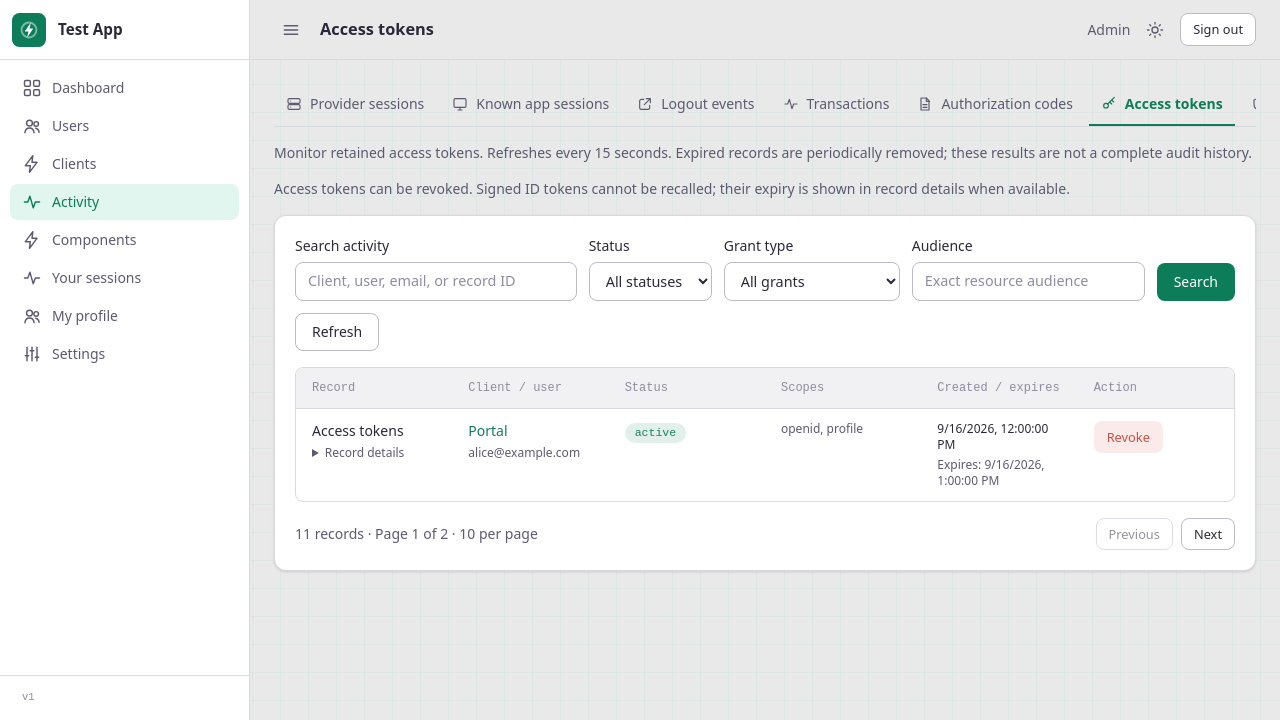
admin activity monitoring › filters only on submission and paginates with submitted values
Expected: the link "Portal" is shown, 468,421 -> 508,440
Type "Alice" into the search field labelled "Search activity" at [436, 282], box 295,262 -> 577,301
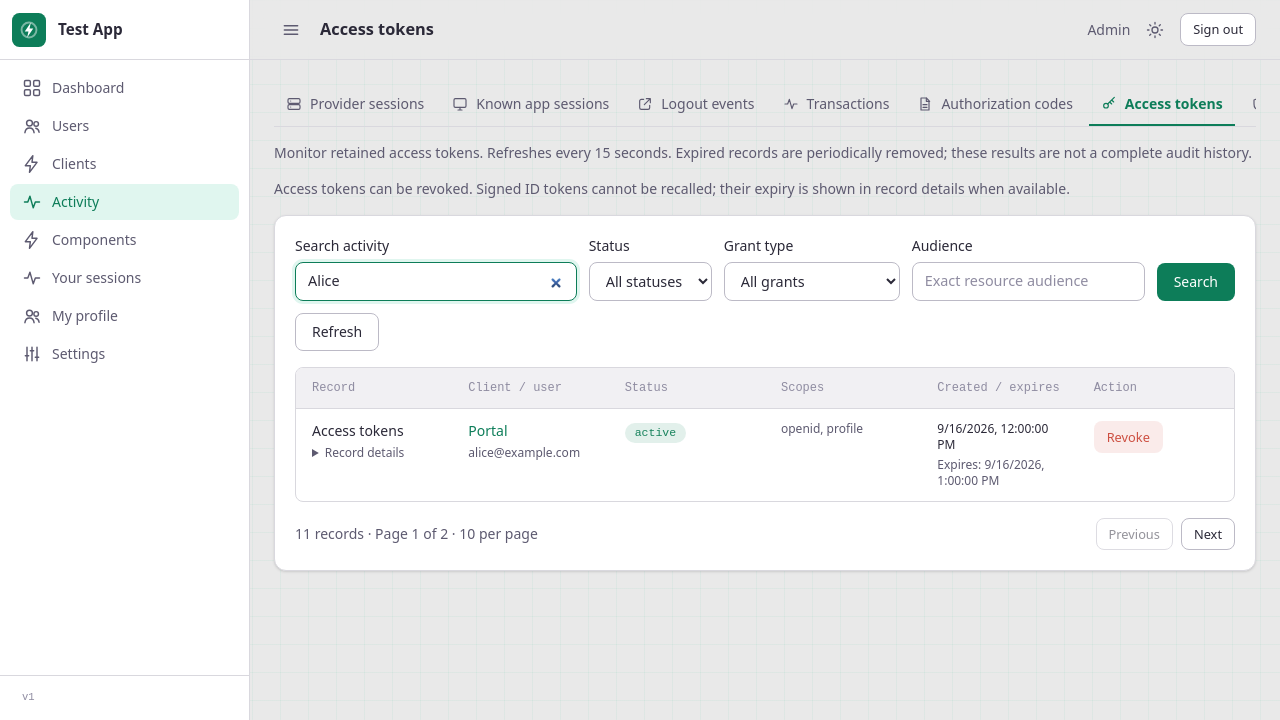
Select "active" in the dropdown labelled "Status" at [650, 282], box 589,262 -> 712,301
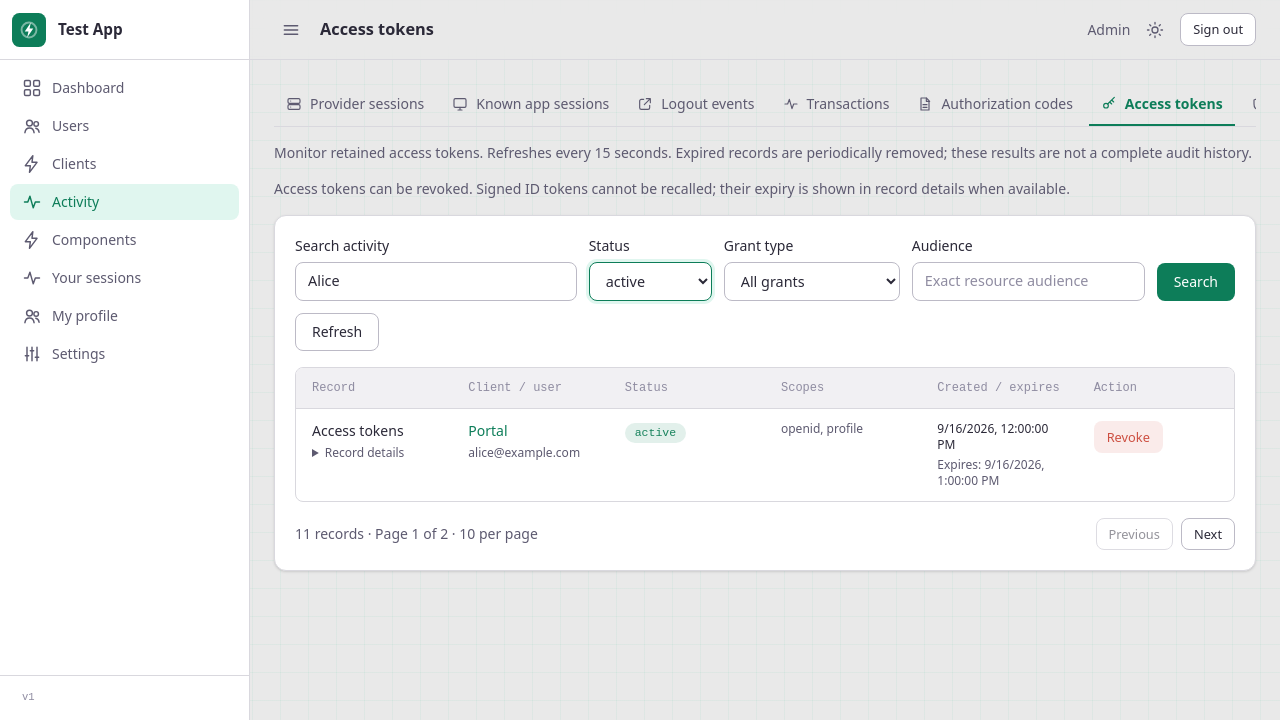
Click the button "Search" at [1196, 282], box 1157,263 -> 1235,301
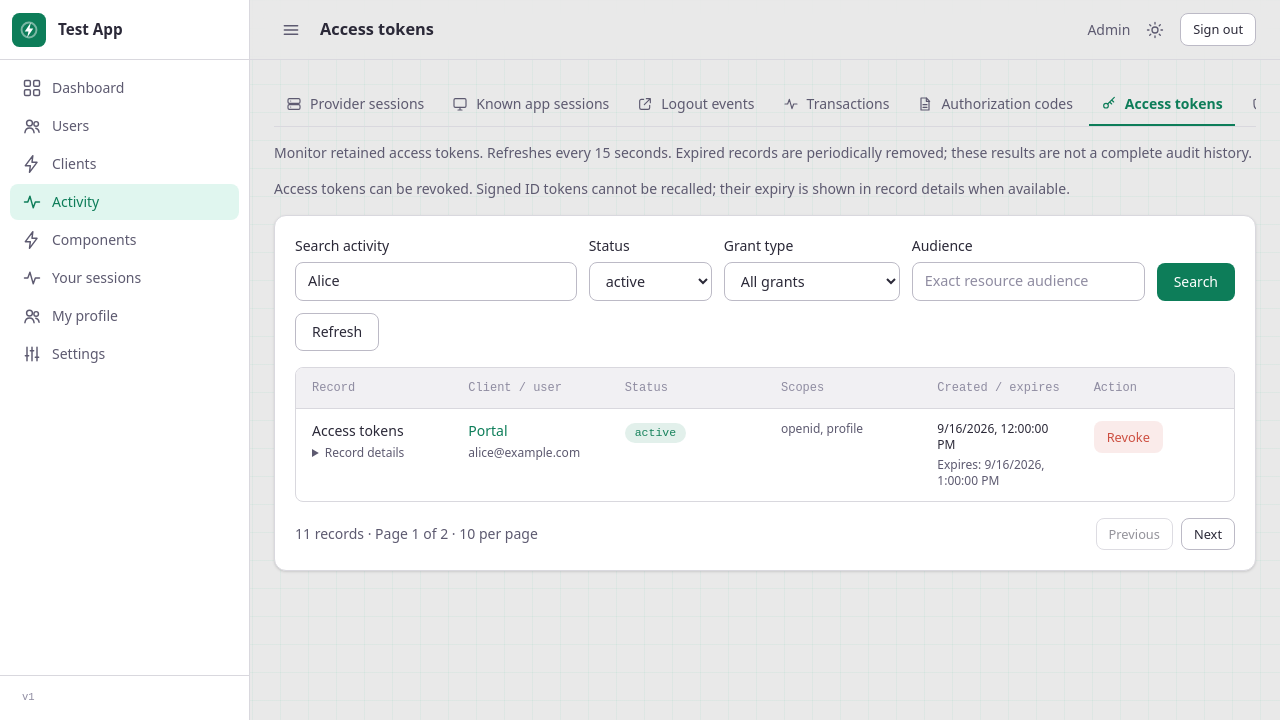
Type " unsubmitted" into the search field labelled "Search activity" at [436, 282], box 295,262 -> 577,301
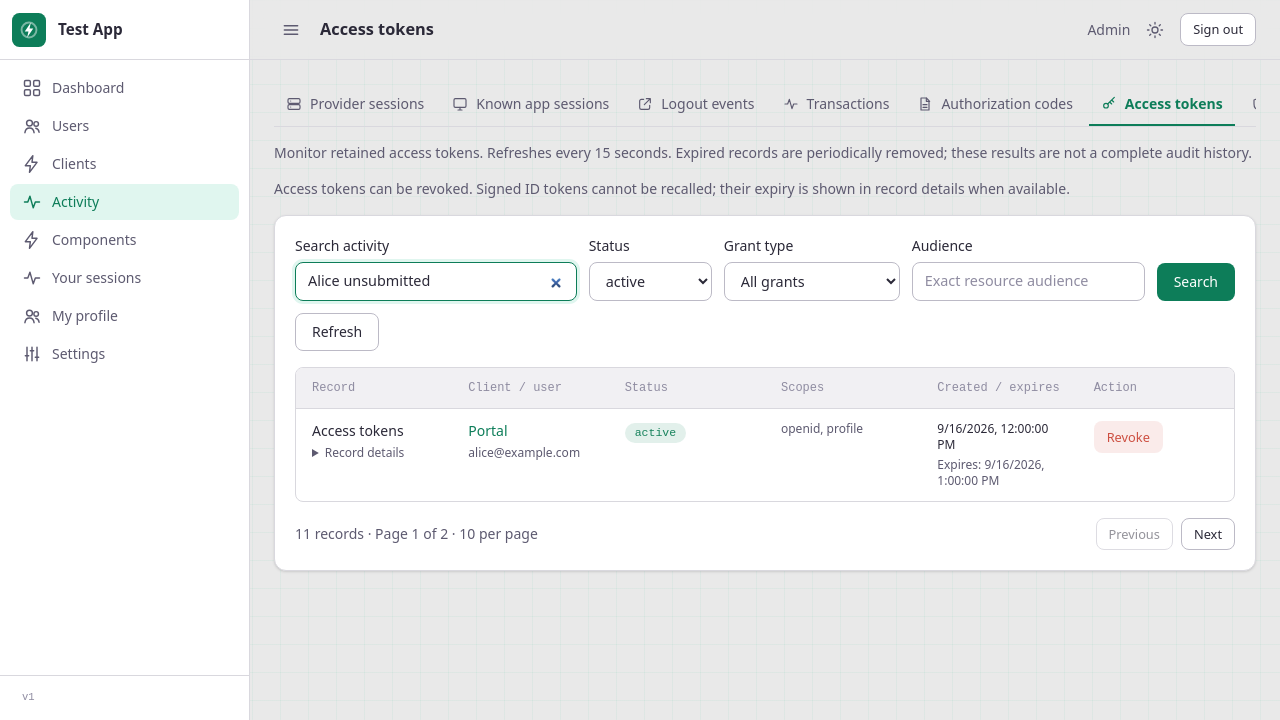
Click the button "Next" at [1208, 534], box 1181,518 -> 1235,550
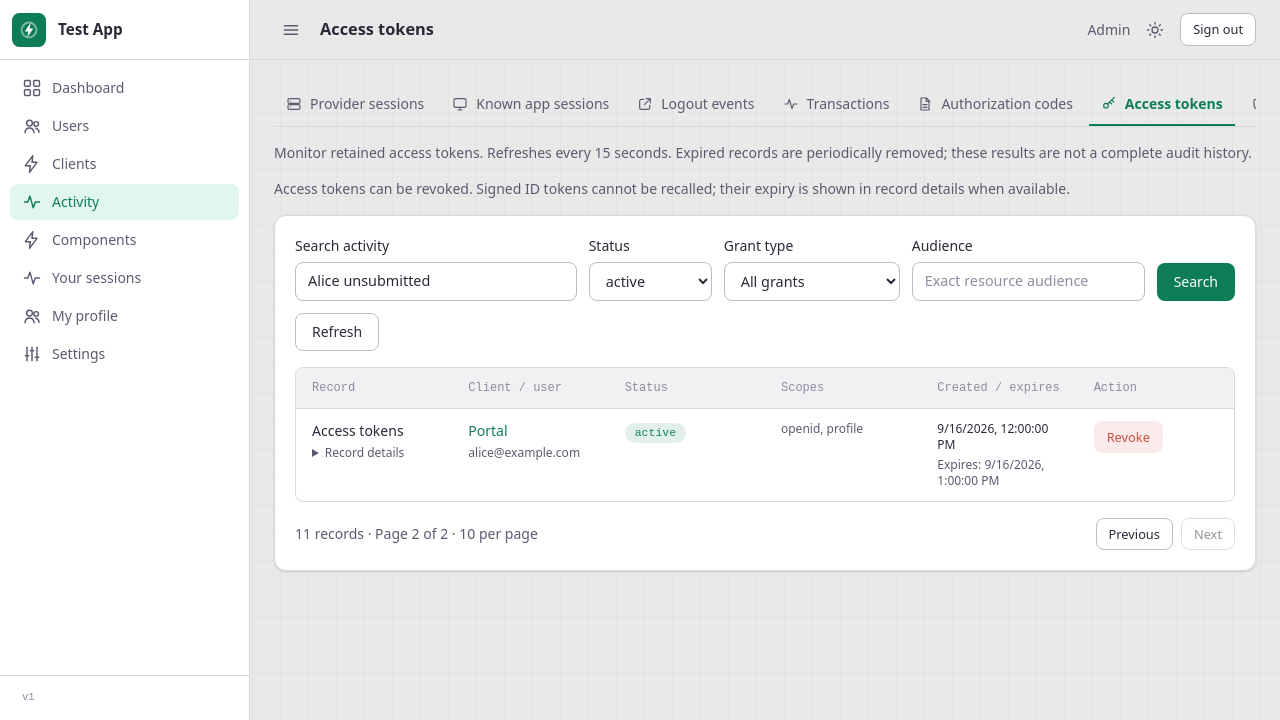
Expected: the text "11 records · Page 2 of 2 · 10 per page" is shown, 295,524 -> 538,544
